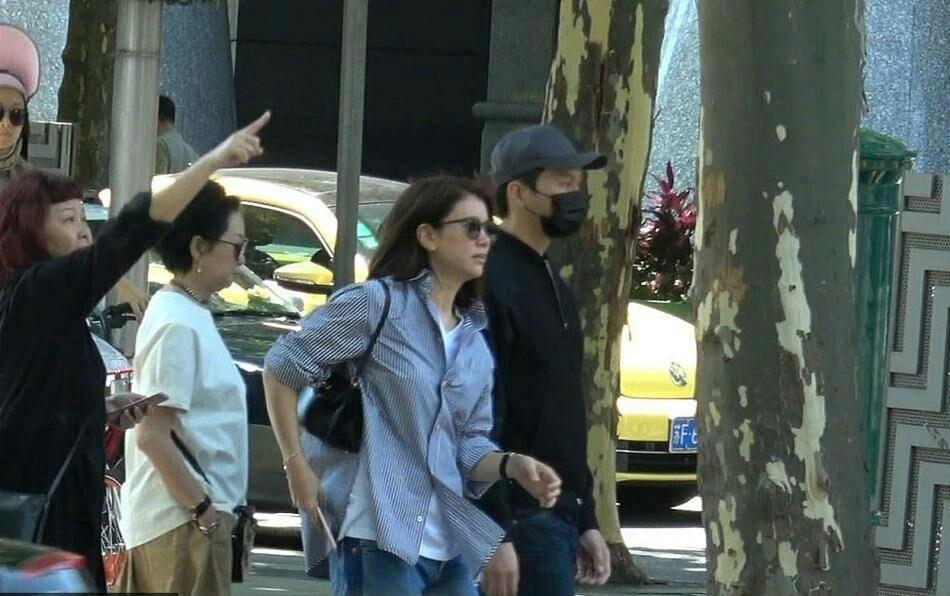NONE: (431, 202, 493, 280), (193, 222, 247, 292), (46, 207, 97, 265), (1, 95, 26, 150)
OK: (517, 161, 594, 238)
